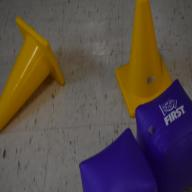cone: (0, 16, 65, 132), (115, 0, 173, 118)
cube: (135, 78, 192, 192), (79, 127, 158, 192)
